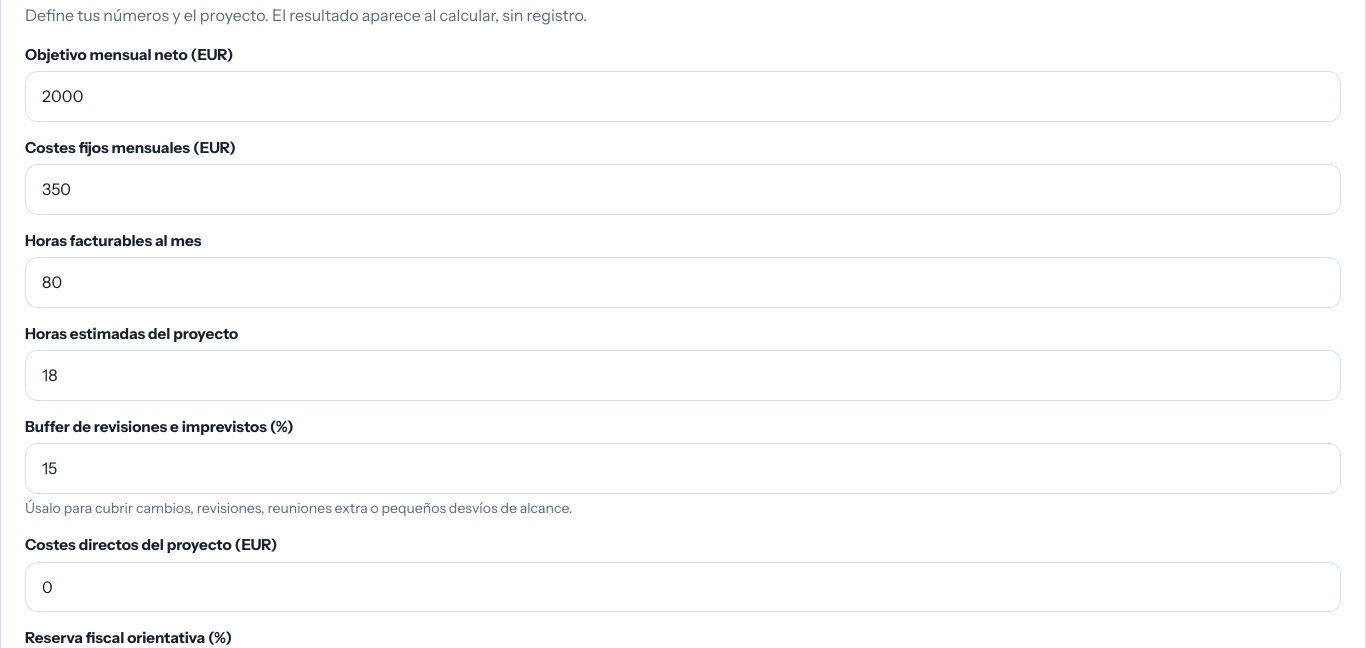
Scenario: CalculatorForm › shows an error when the monthly target is 0
Step 1. Replace the text in the number field labelled "Objetivo mensual neto (EUR)" with "0" → (683, 96), box [25,71,1341,122]
(page scrolled)
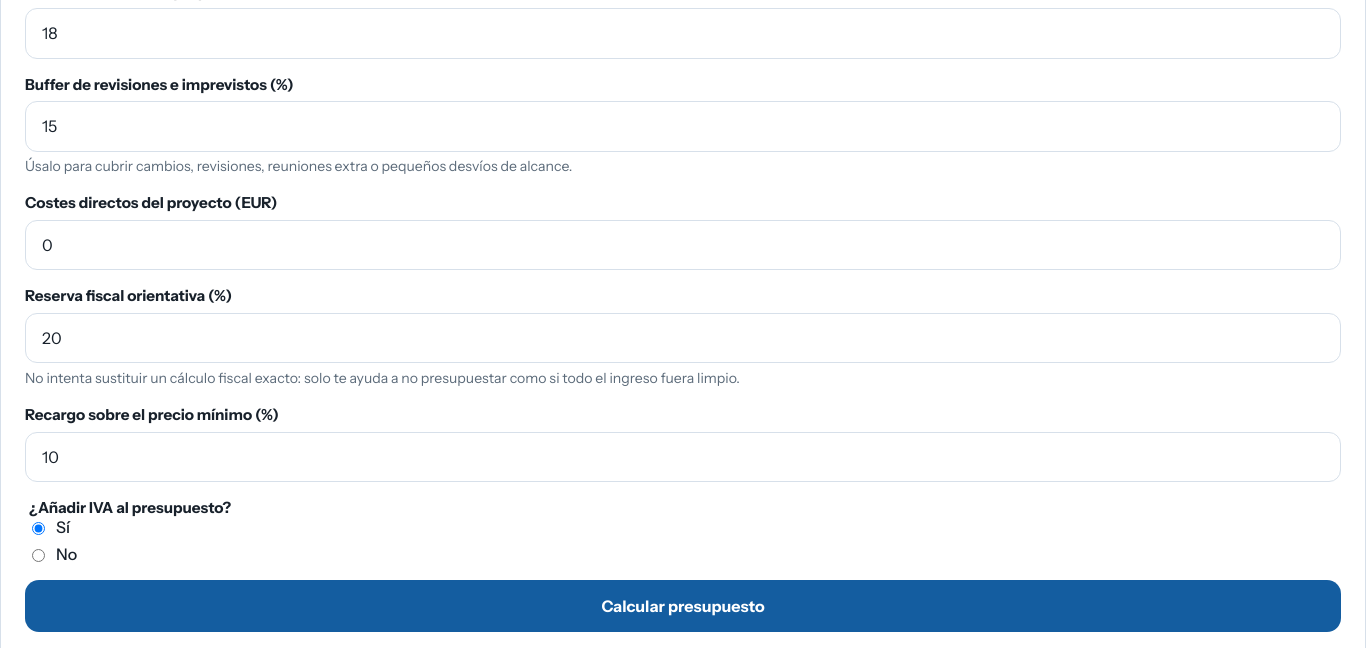
Step 2. Click the button "Calcular presupuesto" → (683, 606), box [25,580,1341,632]
(page scrolled)
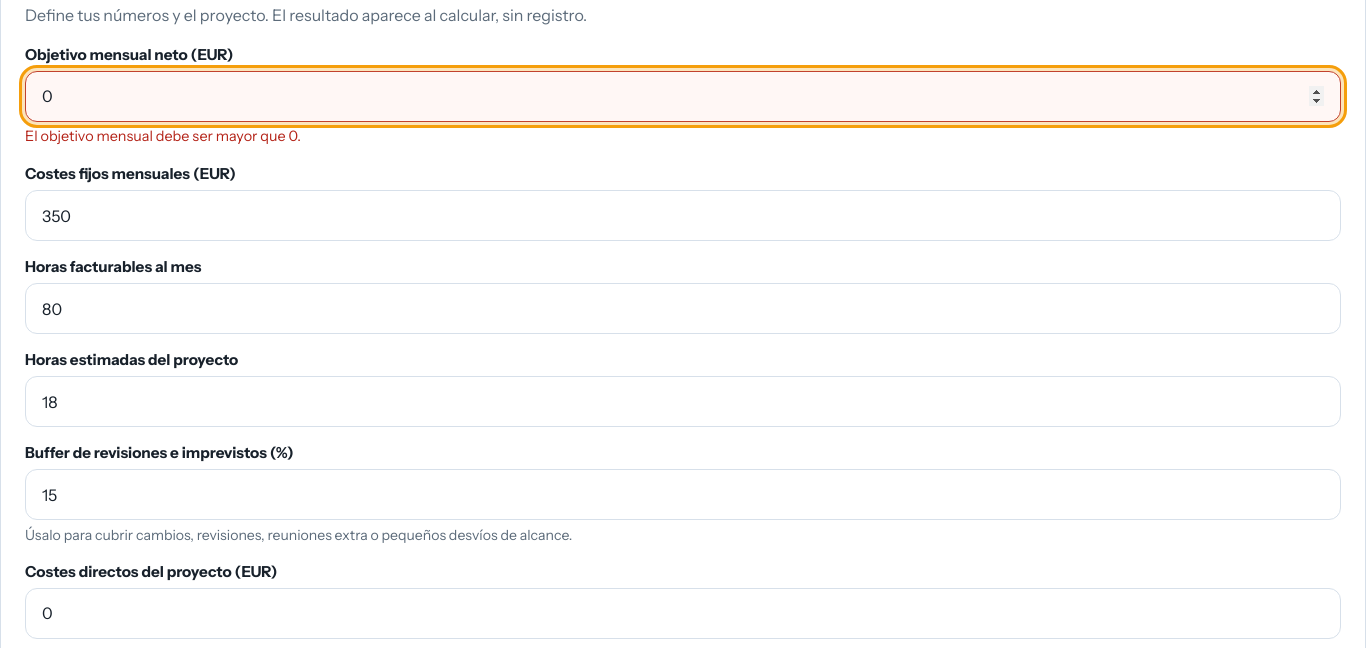
Result: the text "El objetivo mensual debe ser mayor que 0." is shown at [25,128,301,146]
